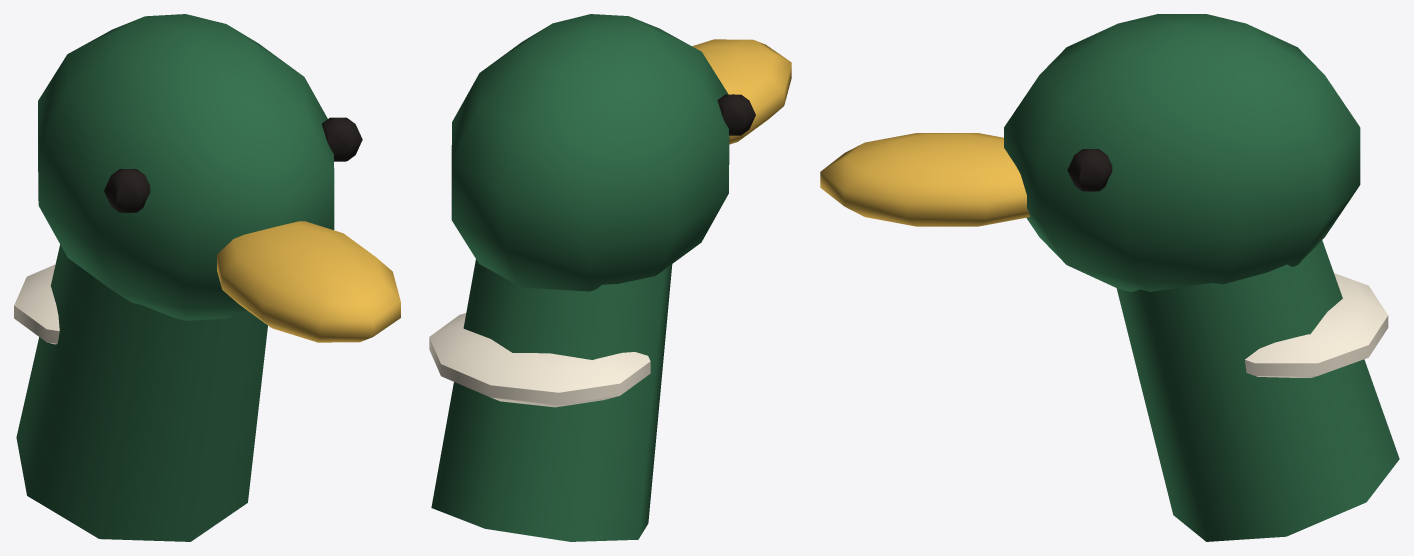
The model's file is Duck_Head.fbx.
3 views of the same model, side by side, from view 1: azimuth 30°, elevation 25°; view 2: azimuth 150°, elevation 25°; view 3: azimuth 270°, elevation 25° (orthographic). The views are drawn at different scales.
Visible parts, largest first — view 1: Duck_Head_EXP; view 2: Duck_Head_EXP; view 3: Duck_Head_EXP.
Part boxes in pixels (x1=…): Duck_Head_EXP: x1=14, y1=14, x2=400, y2=541; Duck_Head_EXP: x1=429, y1=14, x2=791, y2=541; Duck_Head_EXP: x1=820, y1=14, x2=1399, y2=541.
Size of the model in its own units: 0.1056 by 0.2068 by 0.2222.
